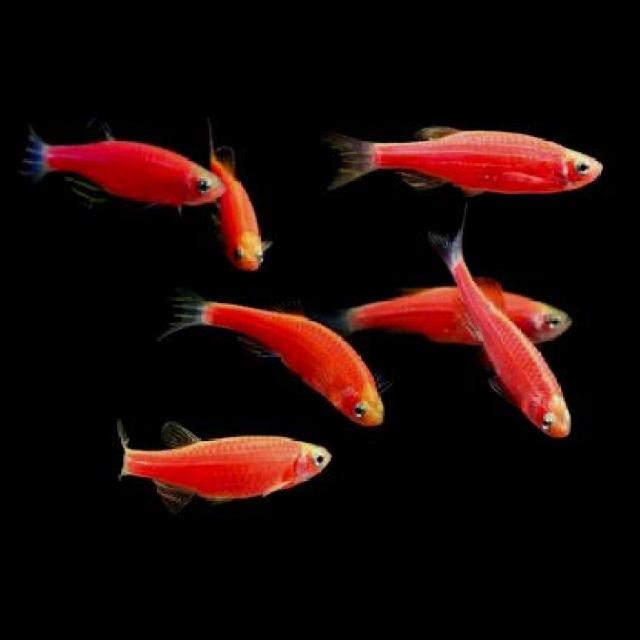ZebraFish: (427, 212, 570, 434), (168, 287, 389, 424), (326, 128, 612, 198), (124, 430, 331, 508), (21, 123, 222, 203)
